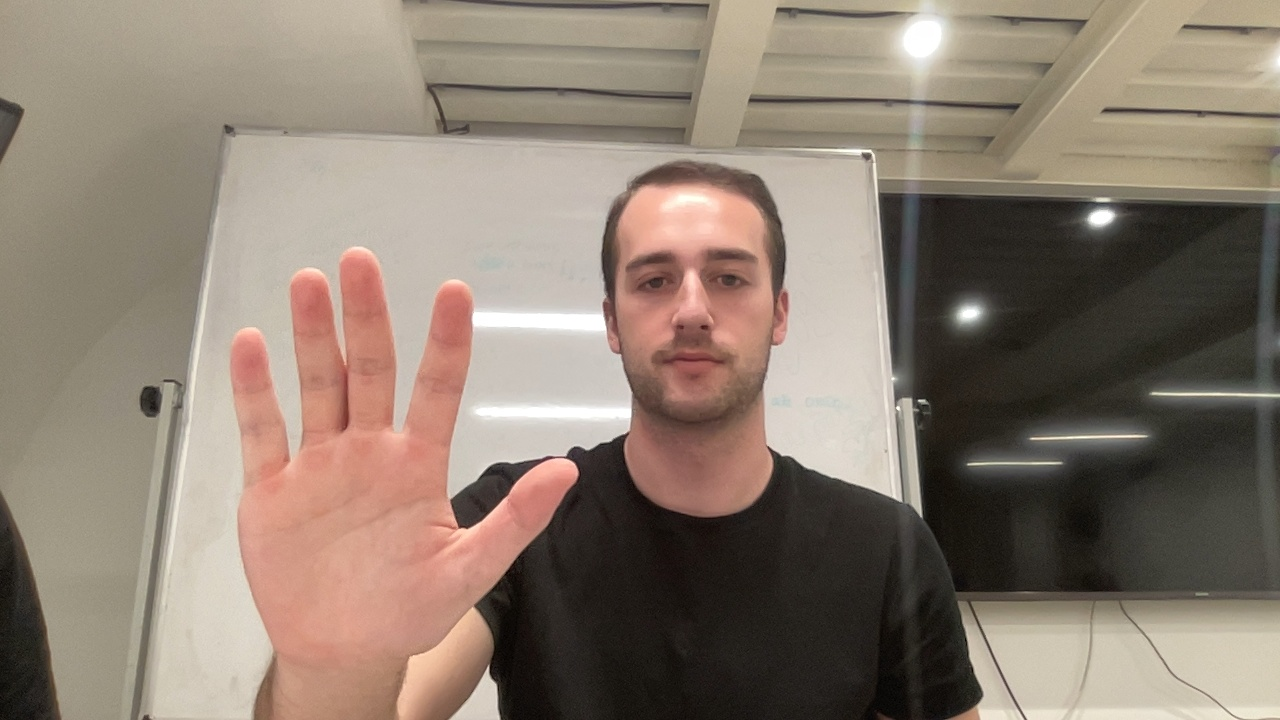Hello: (226, 243, 583, 667)
